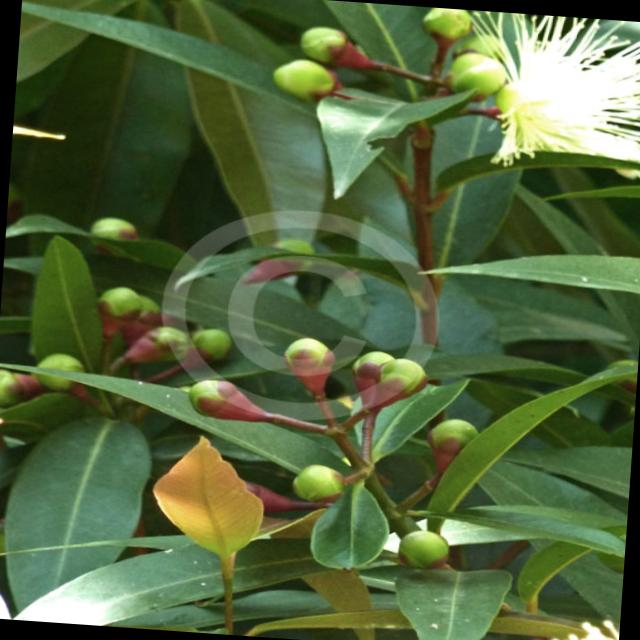Medicinal-Rose Apple: (0, 185, 640, 640), (222, 0, 640, 640)
